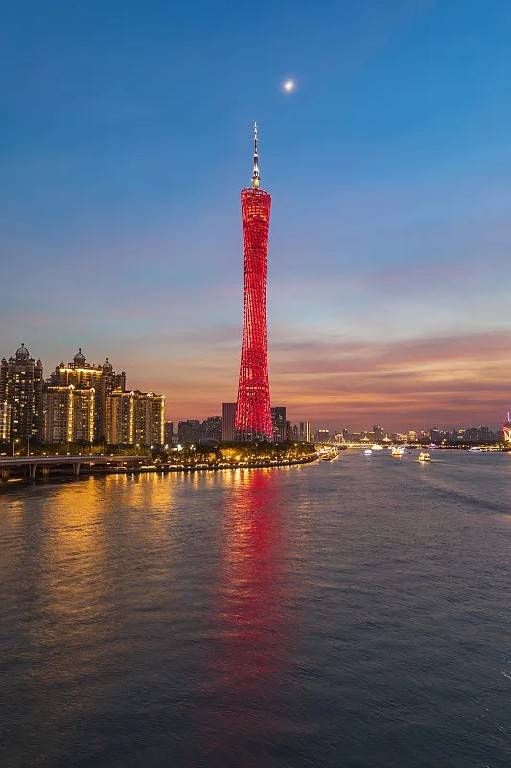Canton: (237, 120, 273, 437)
